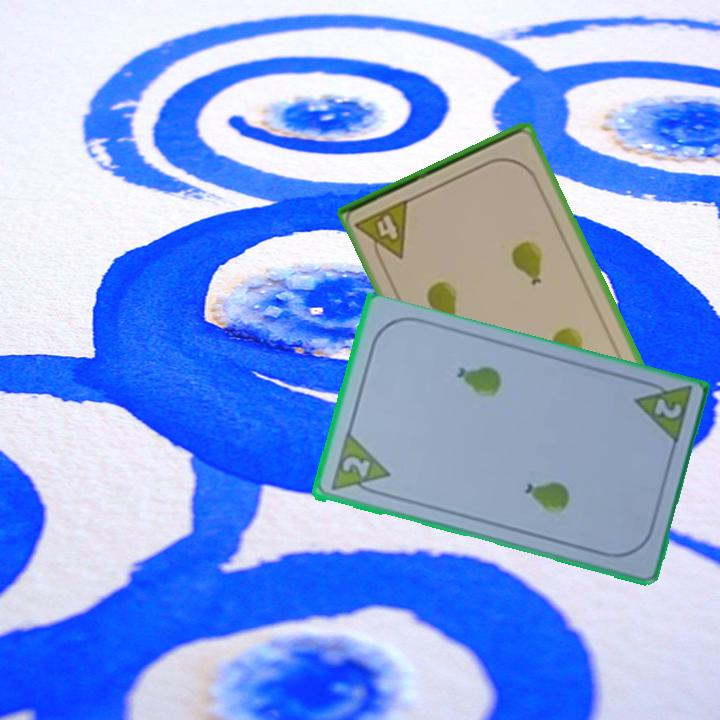2p: (326, 431, 392, 500), (650, 395, 685, 422)
4p: (351, 195, 413, 269)
